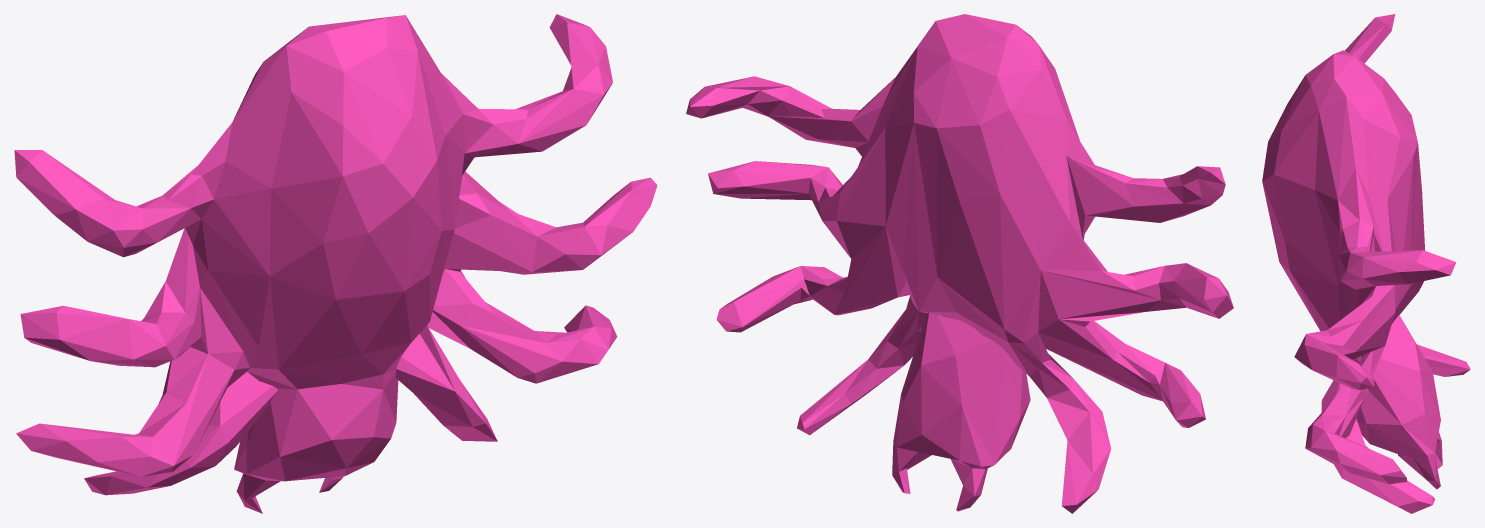
File: aranya2_000009.obj
3 views of the same model, side by side, from view 1: azimuth 30°, elevation 25°; view 2: azimuth 150°, elevation 25°; view 3: azimuth 270°, elevation 25° (orthographic). The views are drawn at different scales.
Parts seen in each view (by area): view 1: Cube; view 2: Cube; view 3: Cube.
Part boxes in pixels (bbox=[...]): Cube: bbox=[14, 14, 657, 513]; Cube: bbox=[686, 14, 1233, 513]; Cube: bbox=[1262, 14, 1470, 513].
Size of the model in its own units: 20.91 by 16.88 by 7.7.
Materials: 1 (1 with a texture image).
